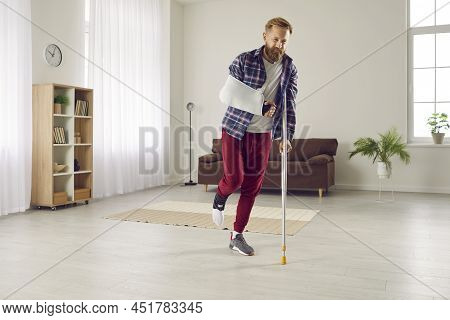crutches: (213, 17, 299, 266)
